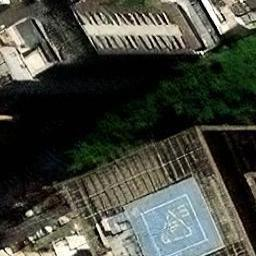heliponto: (142, 196, 207, 255)
